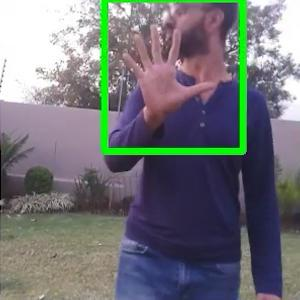follow_hand: (118, 18, 216, 121)
